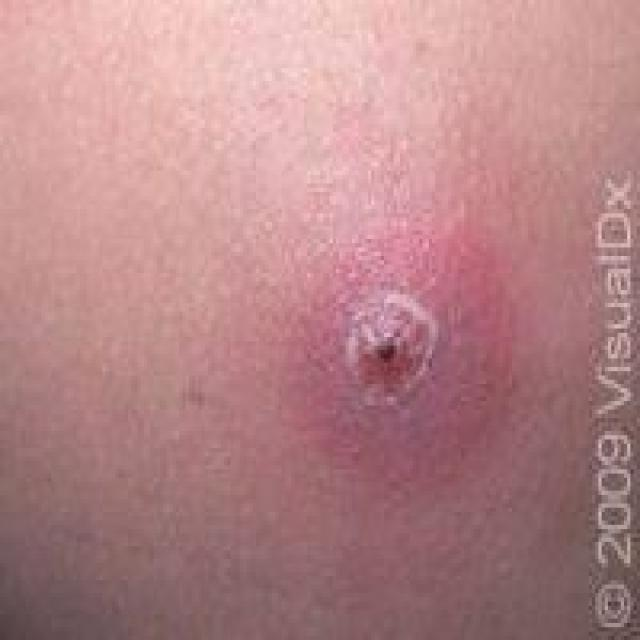Eczema: (317, 272, 450, 420)
